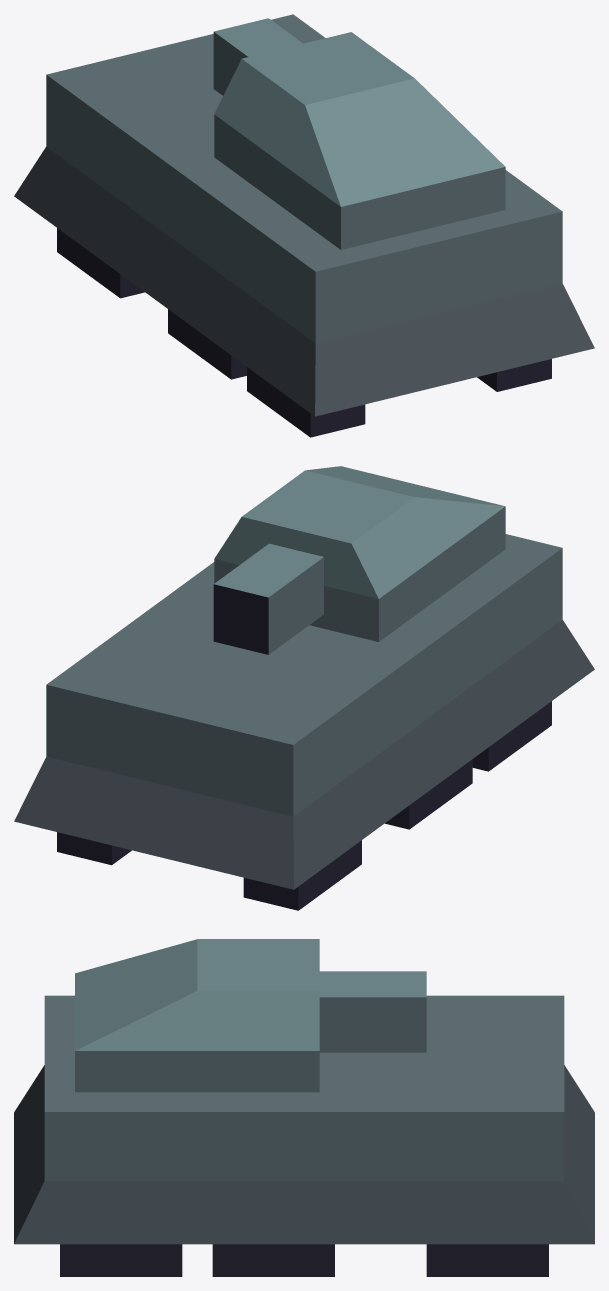
The model's file is Striker.gltf.
3 views of the same model, one above another, from view 1: azimuth 30°, elevation 25°; view 2: azimuth 150°, elevation 25°; view 3: azimuth 270°, elevation 25° (orthographic). The views are drawn at different scales.
Visible parts, largest first — view 1: Main Chassis, Head, cube (×4), Barrel; view 2: Main Chassis, Head, Barrel, cube (×4); view 3: Main Chassis, Head, cube (×3), Barrel.
Boxes of the visible parts, x1=… form: Main Chassis: x1=14, y1=14, x2=594, y2=416; Head: x1=214, y1=32, x2=505, y2=249; cube (×4): x1=57, y1=228, x2=551, y2=437; Barrel: x1=213, y1=18, x2=302, y2=95; Main Chassis: x1=14, y1=534, x2=594, y2=889; Head: x1=214, y1=466, x2=505, y2=641; Barrel: x1=213, y1=543, x2=323, y2=654; cube (×4): x1=57, y1=701, x2=551, y2=910; Main Chassis: x1=14, y1=995, x2=594, y2=1244; Head: x1=75, y1=939, x2=319, y2=1092; cube (×3): x1=60, y1=1244, x2=548, y2=1276; Barrel: x1=319, y1=971, x2=426, y2=1052.
Size of the model in its own units: 0.3187 by 0.2875 by 0.5938.
Materials: 1 (1 with a texture image).
